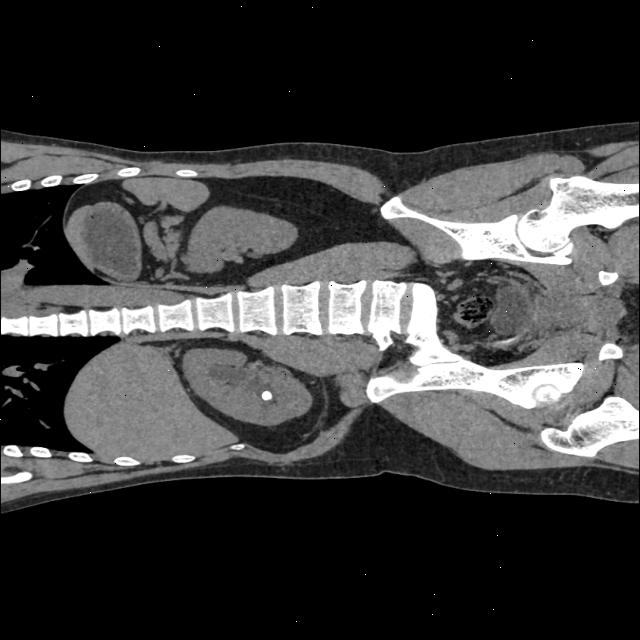kidneystone: (261, 390, 273, 400)
